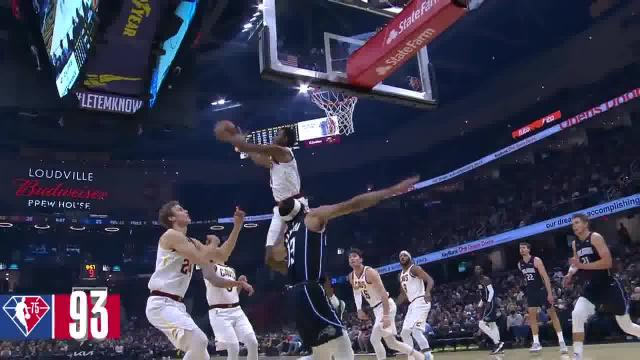ball-handler: (210, 114, 320, 292)
player: (140, 201, 217, 360), (564, 211, 640, 360), (200, 229, 266, 360), (514, 240, 569, 358), (344, 249, 398, 360), (388, 249, 436, 360), (470, 264, 506, 355)
